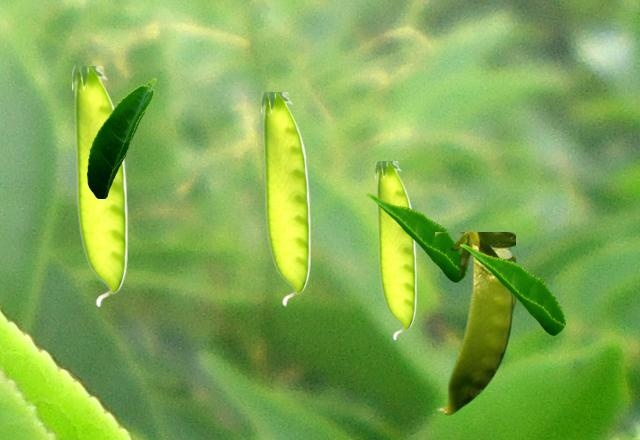pea: (435, 232, 514, 414), (72, 66, 126, 306), (261, 92, 309, 305), (375, 161, 415, 339)
